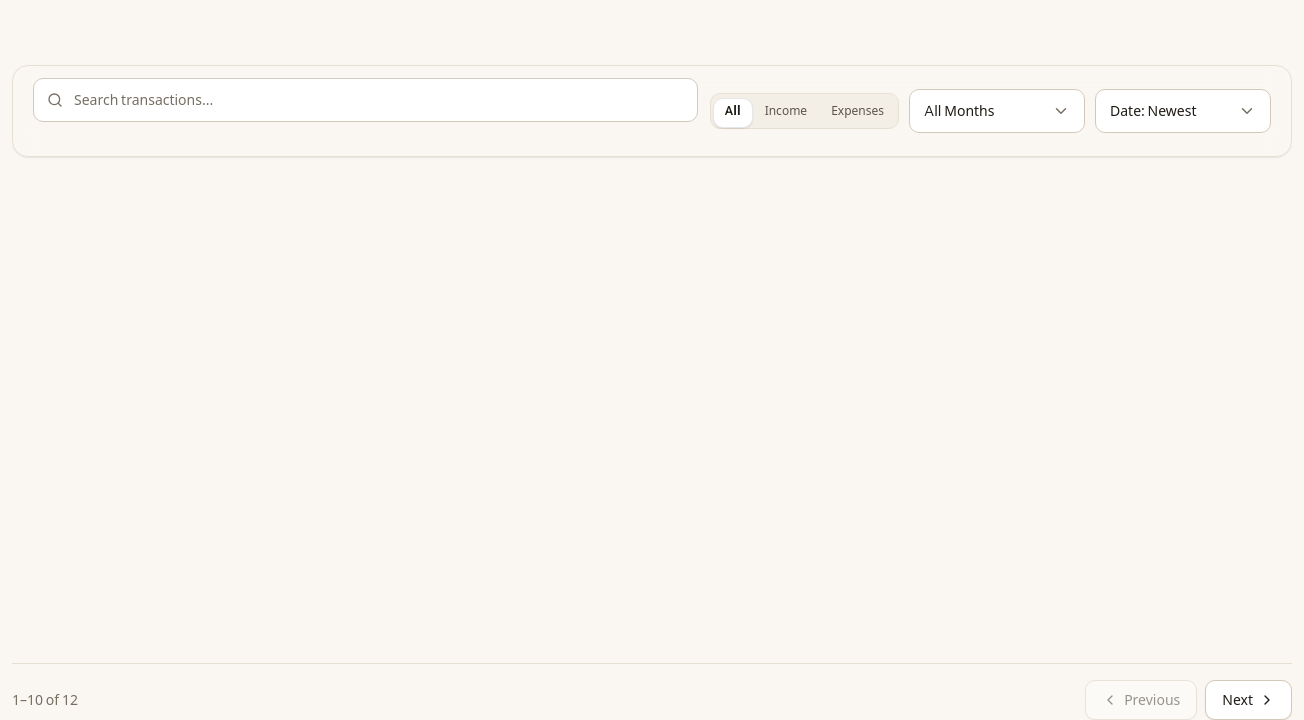
it: Phase 5: Transactions Redesign Screen › 3. 10-per-page Pagination › paginates 10 transactions per page with range label and Previous/Next controls
(page scrolled)
Expected: the text with id "txPageInfo" reads "1–10 of 12", [12,690,78,710]
Expected: the button with id "txPrevPage" is disabled, [1085,680,1197,719]
Note: Click Next page
Click the button with id "txNextPage": [1249, 700] box [1205,680,1292,719]
(page scrolled)
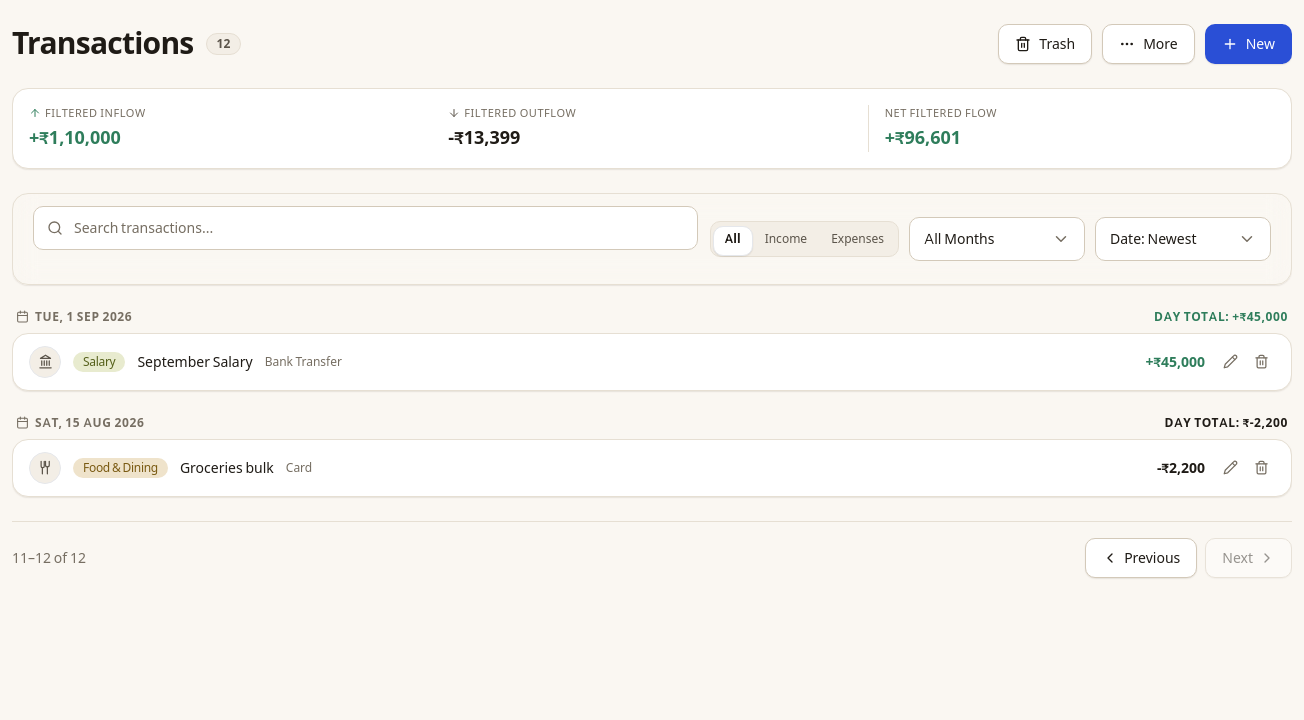
Expected: the text with id "txPageInfo" reads "11–12 of 12", [12,548,86,568]
Expected: the button with id "txNextPage" is disabled, [1205,538,1292,578]
Expected: the button with id "txPrevPage" is enabled, [1085,538,1197,578]
